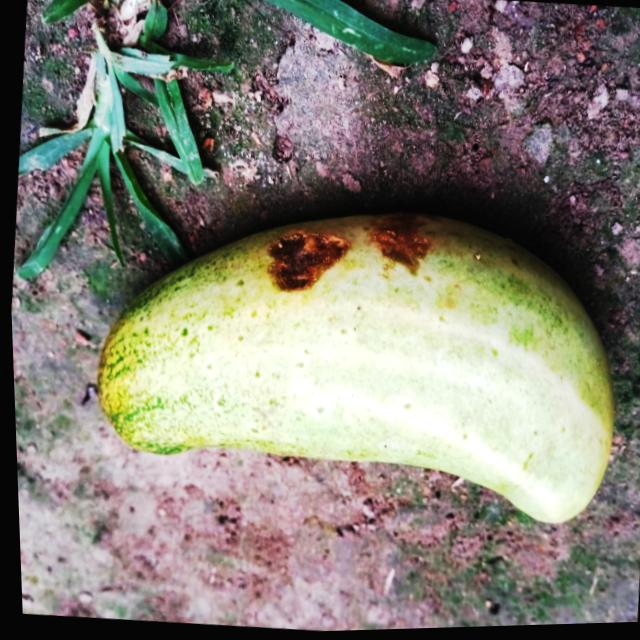Belly-Rot: (249, 193, 439, 325)
